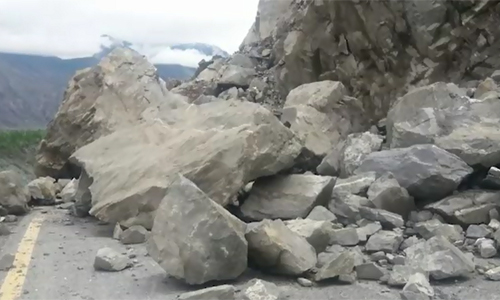landSliding: (27, 49, 483, 287)
